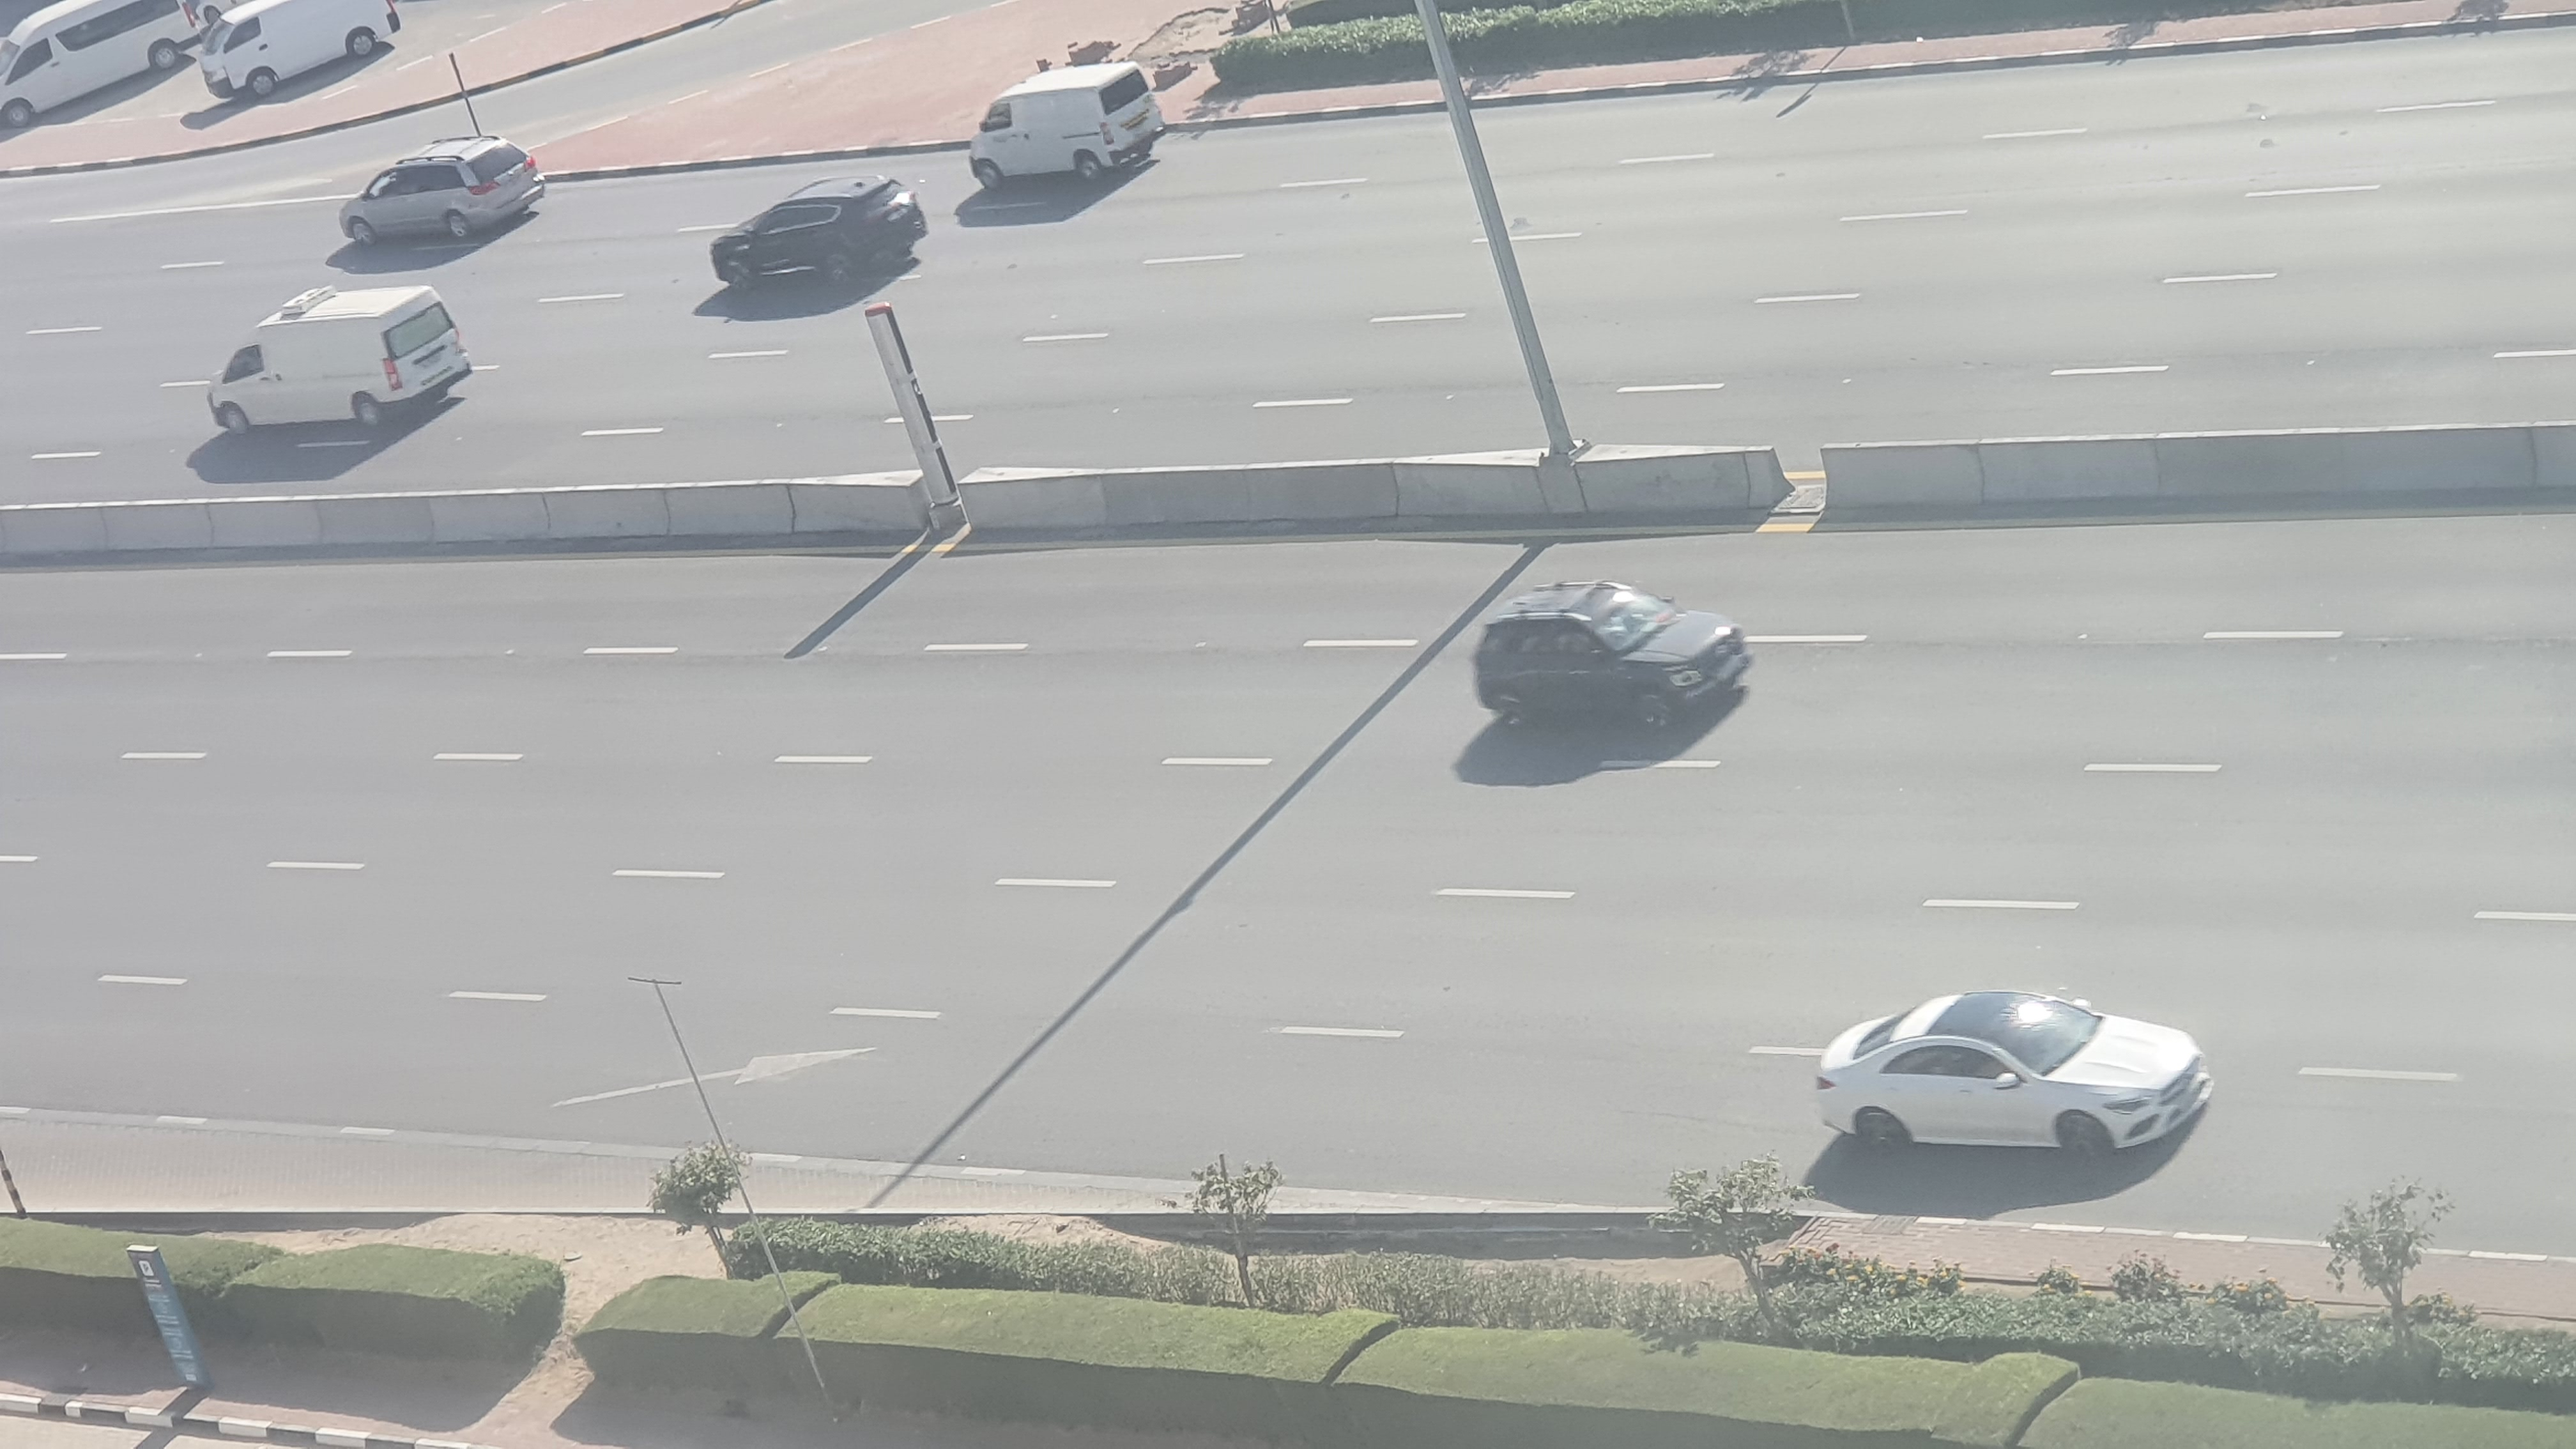Sunroof: (1813, 978, 2215, 1171), (1474, 582, 1755, 736)
